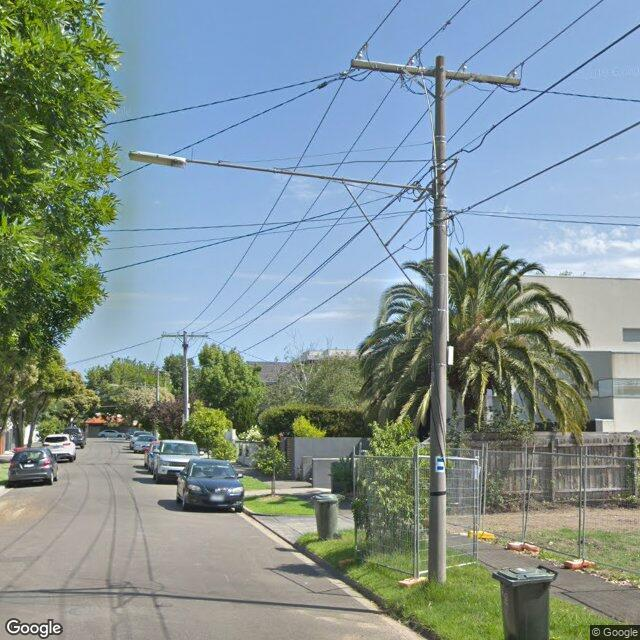concrete-pole: (427, 56, 449, 583), (182, 330, 190, 422), (156, 368, 160, 402)
crossarm: (351, 58, 520, 86), (161, 335, 208, 338)
streetlight: (128, 150, 436, 193)
